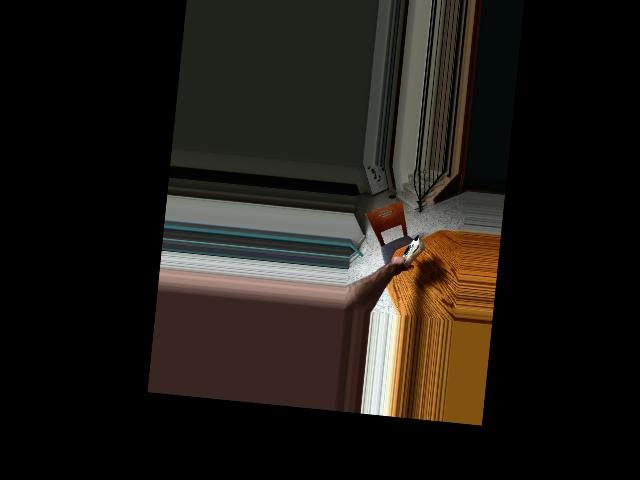cheese: (399, 232, 426, 269)
